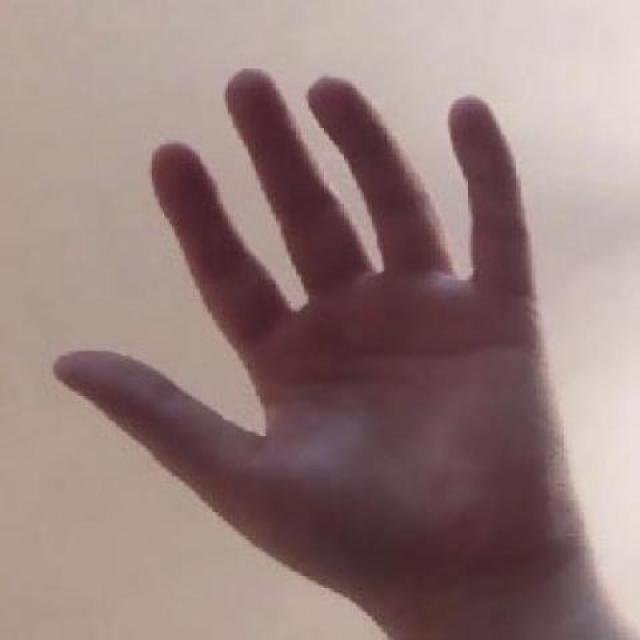Open Hand: (49, 60, 632, 640)
